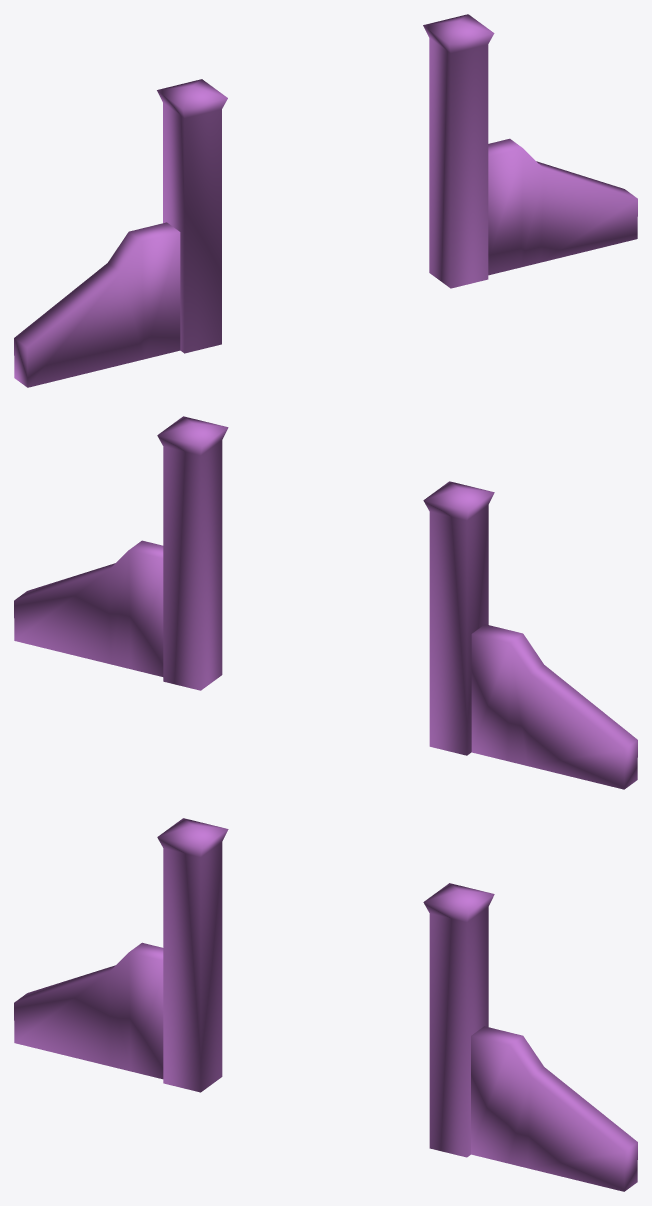
The model's file is Struct_Fence1_Gate_B_COL.fbx.
3 views of the same model, one above another, from view 1: azimuth 30°, elevation 25°; view 2: azimuth 150°, elevation 25°; view 3: azimuth 330°, elevation 25° (orthographic).
Parts seen in each view (by area): view 1: Struct_Fence1_Gate_B_COL; view 2: Struct_Fence1_Gate_B_COL; view 3: Struct_Fence1_Gate_B_COL.
Part boxes in pixels (<box>): Struct_Fence1_Gate_B_COL: <box>14,14,637,387</box>; Struct_Fence1_Gate_B_COL: <box>14,416,637,789</box>; Struct_Fence1_Gate_B_COL: <box>14,818,637,1191</box>.
Bounding box in the file's own units: 14.68 × 5.85 × 1.09.
